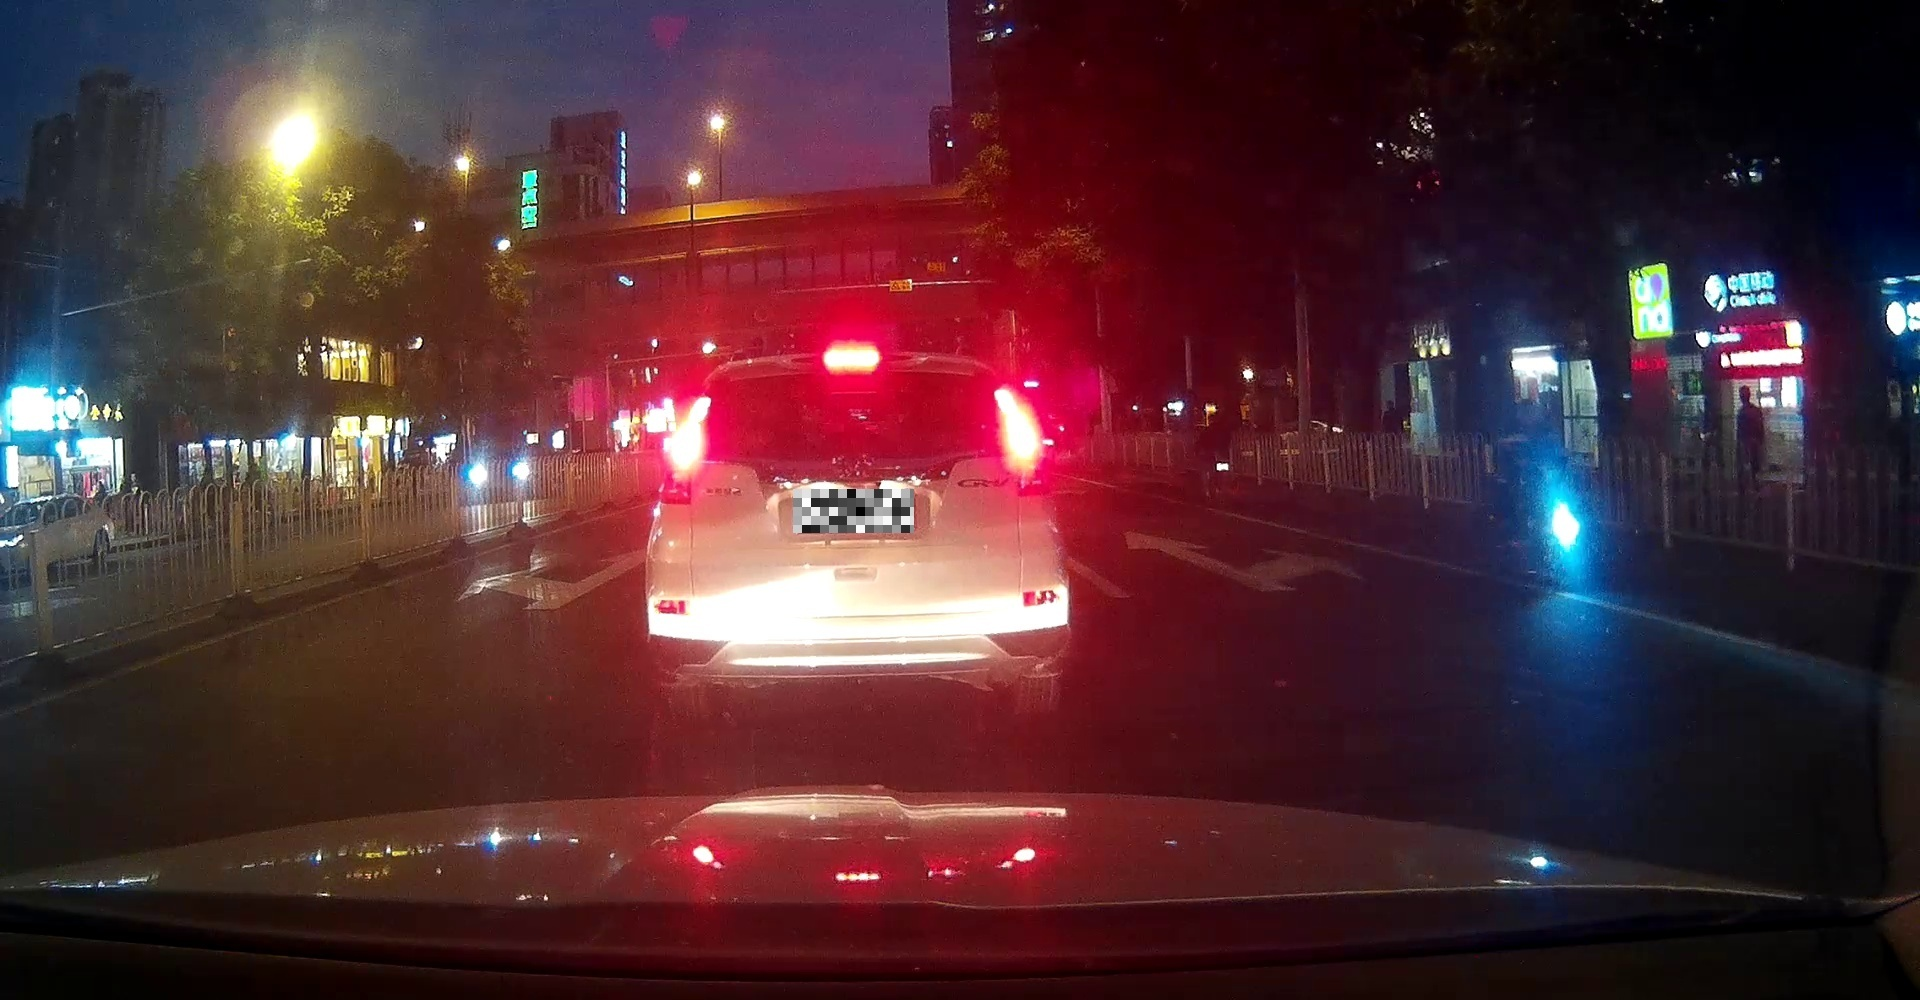L_light: (657, 471, 692, 505)
R_light: (1017, 470, 1055, 497)
T_light: (823, 350, 880, 376)
night-no: (646, 349, 1070, 718)
plate_1: (792, 489, 914, 533)
